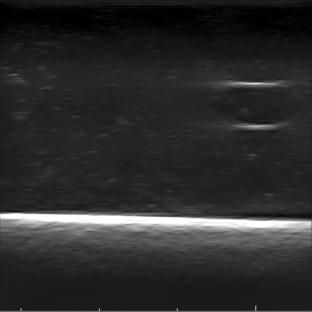vessel: (210, 81, 299, 131)
